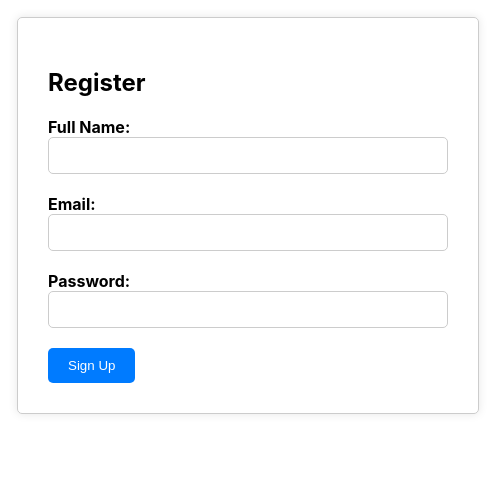
Test: Register page spec › should have an error when email is invalid
In the field with test id "cy-fullname-input": (248, 156) [48,137,448,174], type "testemail"
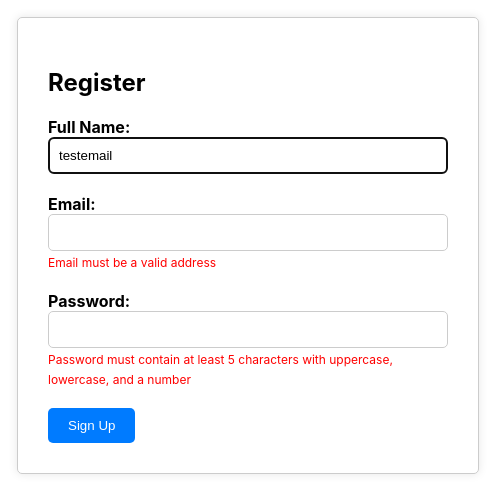
In the field with test id "cy-email-input": (248, 233) [48,214,448,251], type "test@email.com"
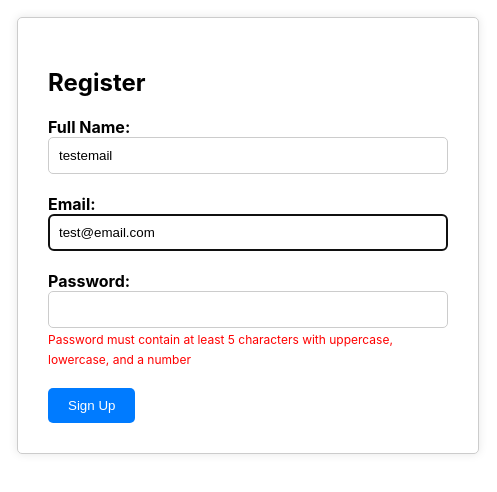
In the password field with test id "cy-password-input": (248, 310) [48,291,448,328], type "TestPassword1234"
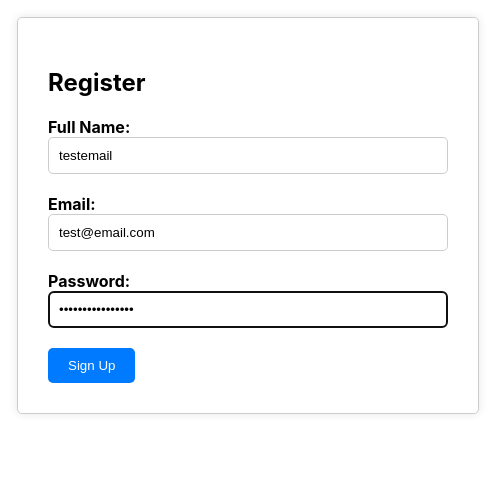
Click the button with test id "submit": (92, 366) [48,348,135,383]
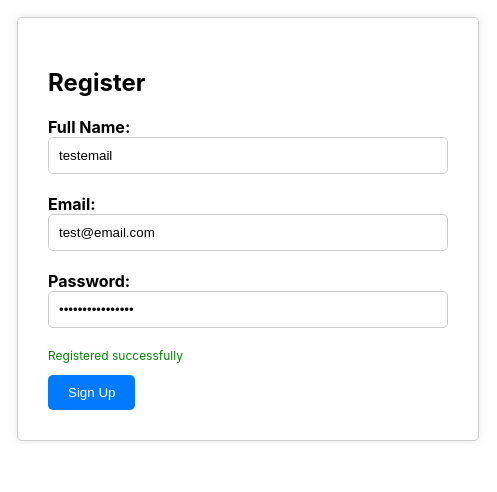
Check: the text "Registered successfully" is shown, box [48,348,183,363]
